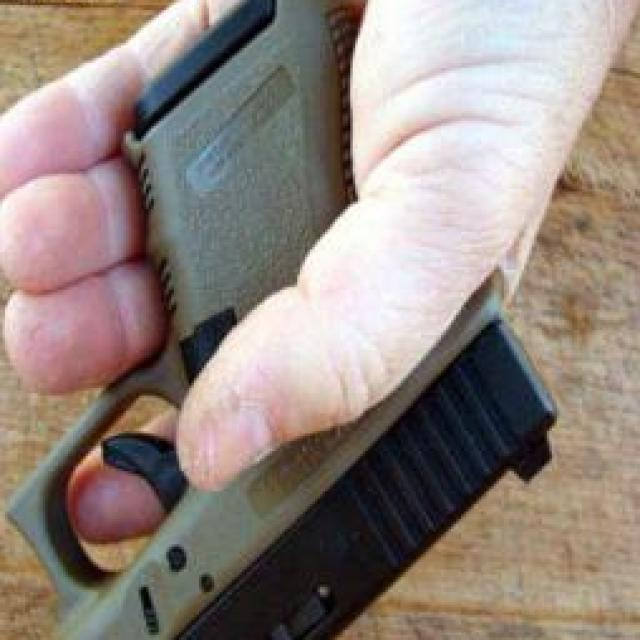pistol: (0, 15, 565, 640)
